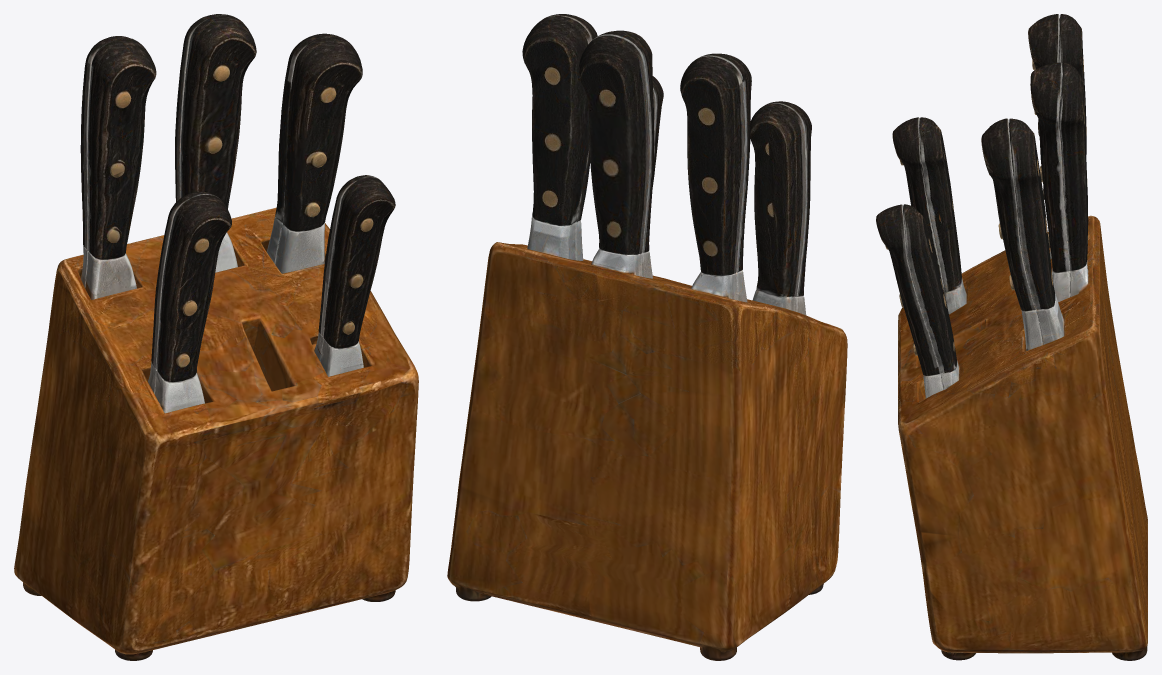
File: k_knives.glb
The picture shows the model from 3 angles, left to right: view 1: azimuth 30°, elevation 25°; view 2: azimuth 150°, elevation 25°; view 3: azimuth 270°, elevation 25°; orthographic projection. The views are drawn at different scales.
Bounding box in the file's own units: 1.02 × 1.9 × 0.867.
1 material, 1 textured.
